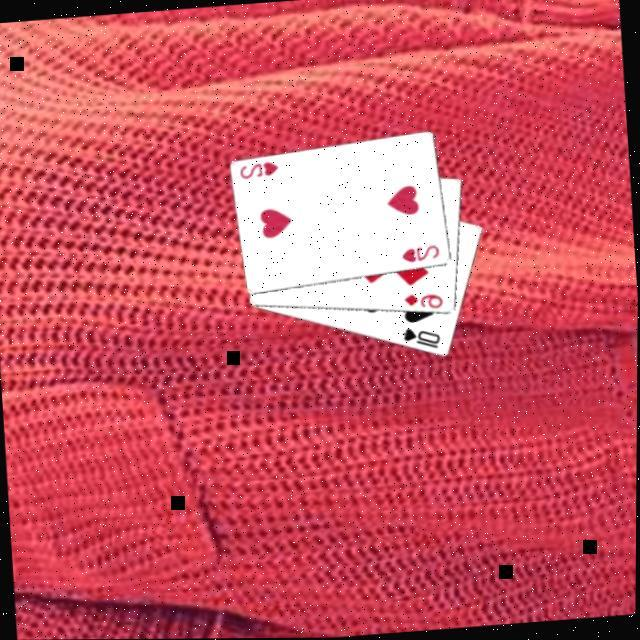10S: (398, 322, 443, 352)
2H: (397, 240, 442, 265), (236, 157, 280, 180)
9D: (400, 286, 445, 312)
